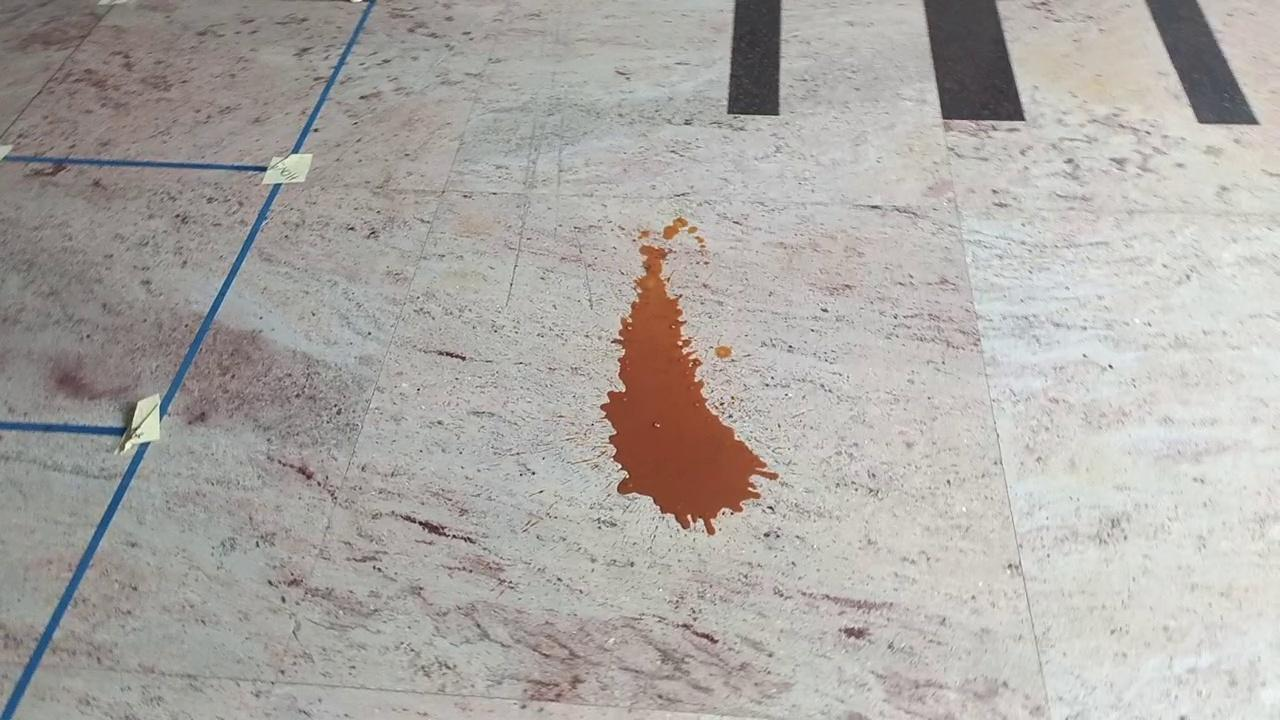dirty_floor: (605, 219, 782, 540)
